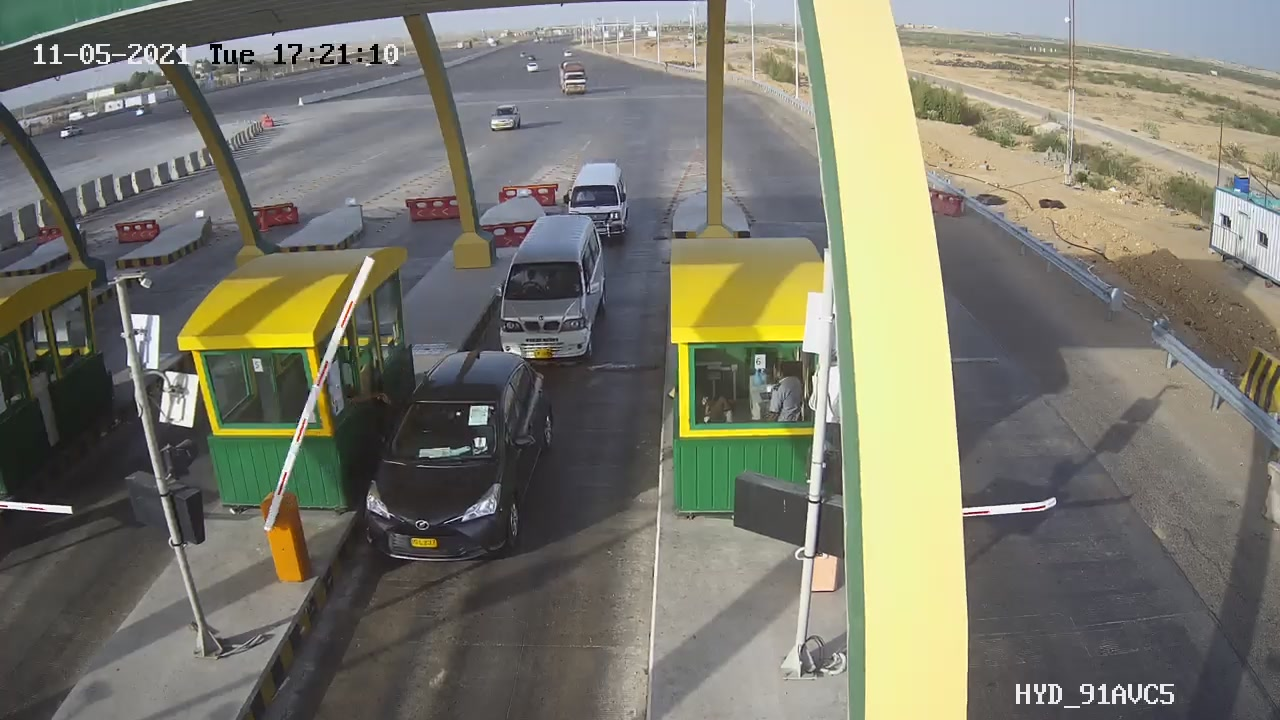F1: (353, 333, 573, 577)
